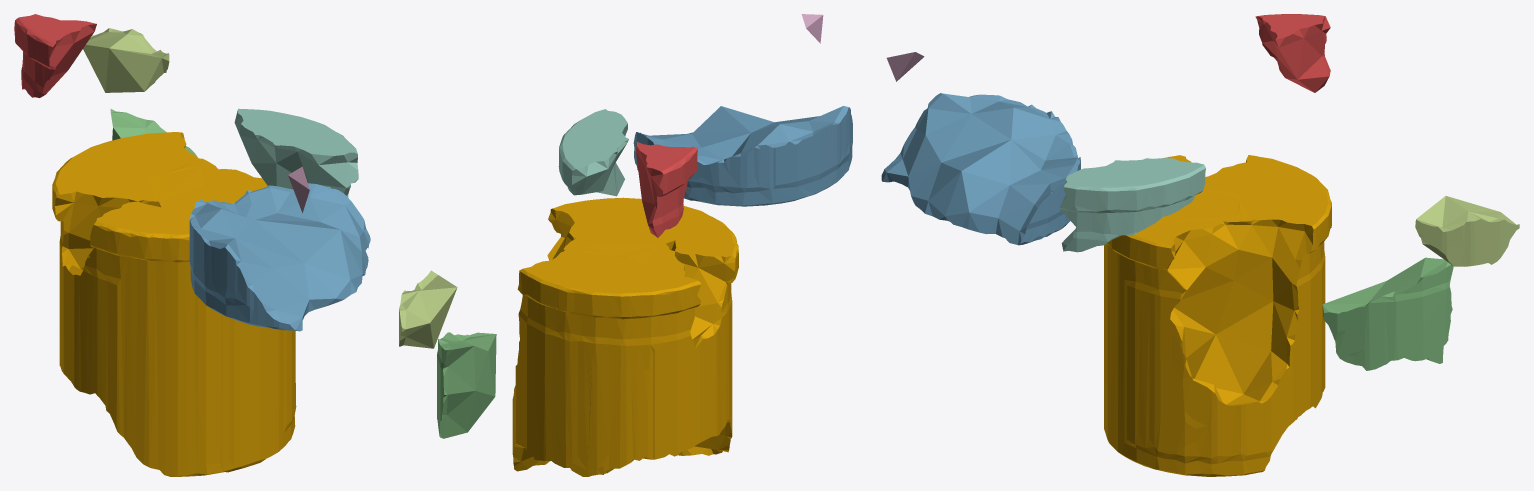
The model's file is fractured_42_8pcs_transformed.glb.
3 views of the same model, side by side, from view 1: azimuth 30°, elevation 25°; view 2: azimuth 150°, elevation 25°; view 3: azimuth 270°, elevation 25° (orthographic). The views are drawn at different scales.
Parts seen in each view (by area): view 1: piece_0.obj, piece_2.obj, piece_4.obj, piece_1.obj, piece_5.obj, piece_3.obj, piece_6.obj; view 2: piece_0.obj, piece_2.obj, piece_3.obj, piece_4.obj, piece_1.obj, piece_5.obj; view 3: piece_0.obj, piece_2.obj, piece_3.obj, piece_4.obj, piece_5.obj, piece_1.obj.
Boxes of the visible parts, x1=… form: piece_0.obj: x1=52, y1=132, x2=296, y2=476; piece_2.obj: x1=189, y1=183, x2=370, y2=331; piece_4.obj: x1=234, y1=108, x2=358, y2=197; piece_1.obj: x1=14, y1=14, x2=96, y2=97; piece_5.obj: x1=83, y1=28, x2=169, y2=92; piece_3.obj: x1=110, y1=109, x2=197, y2=157; piece_6.obj: x1=288, y1=166, x2=309, y2=212; piece_0.obj: x1=512, y1=197, x2=738, y2=476; piece_2.obj: x1=633, y1=106, x2=852, y2=206; piece_3.obj: x1=437, y1=332, x2=496, y2=438; piece_4.obj: x1=558, y1=109, x2=628, y2=196; piece_1.obj: x1=636, y1=142, x2=697, y2=237; piece_5.obj: x1=399, y1=270, x2=457, y2=348; piece_0.obj: x1=1104, y1=155, x2=1331, y2=476; piece_2.obj: x1=881, y1=93, x2=1080, y2=245; piece_3.obj: x1=1322, y1=257, x2=1453, y2=370; piece_4.obj: x1=1059, y1=158, x2=1205, y2=252; piece_5.obj: x1=1415, y1=196, x2=1519, y2=266; piece_1.obj: x1=1255, y1=14, x2=1330, y2=92.
Bounding box in the file's own units: 0.9259 × 1.6 × 2.5.
